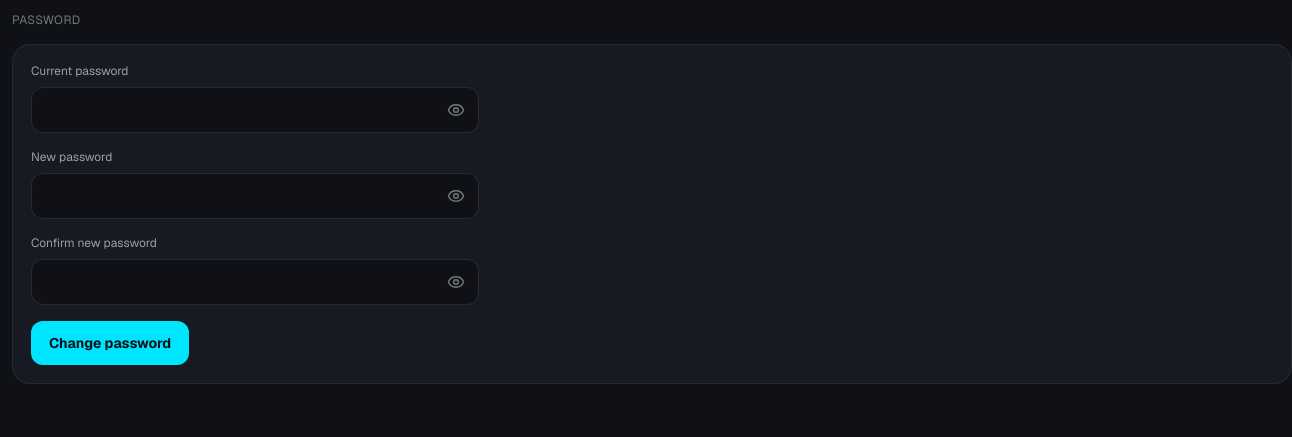
it: PasswordSection › shows a specific message when the current password is wrong (400)
Type "OldPassw0rd" into the password field labelled "Current password".
click(255, 110); type("OldPassw0rd")  # box [31,87,479,133]
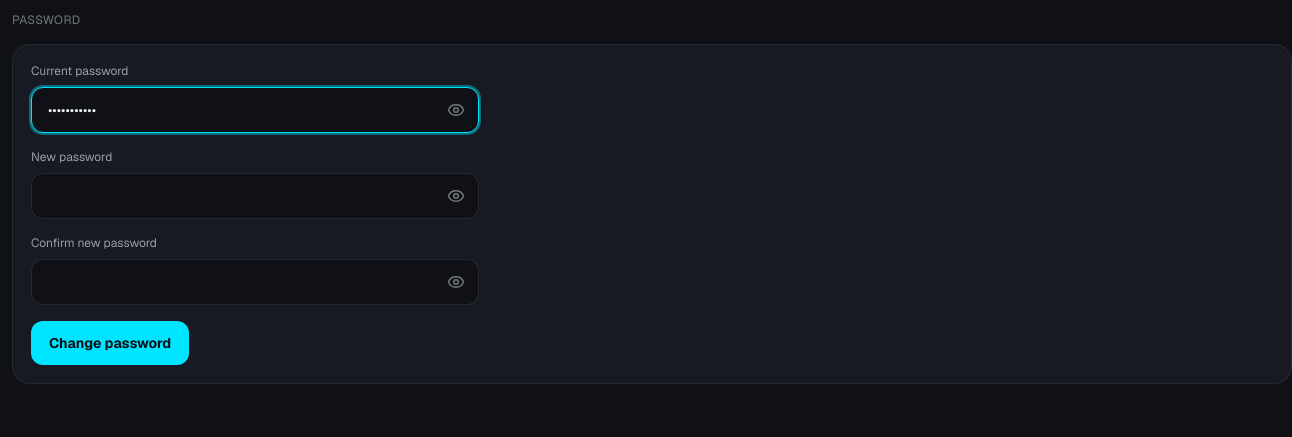
Type "NewPassw0rd" into the password field labelled "New password".
click(255, 196); type("NewPassw0rd")  # box [31,173,479,219]
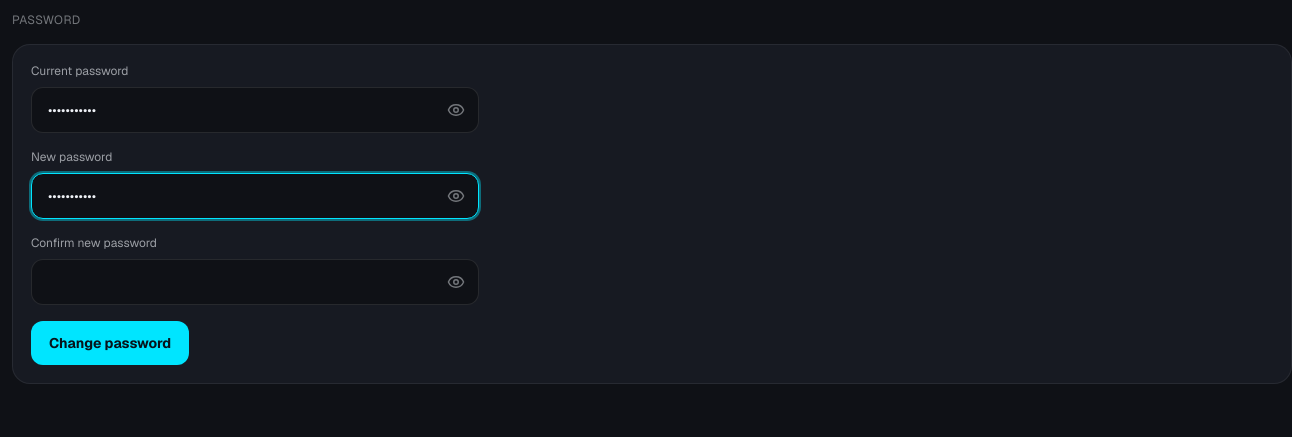
Type "NewPassw0rd" into the password field labelled "Confirm new password".
click(255, 282); type("NewPassw0rd")  # box [31,259,479,305]
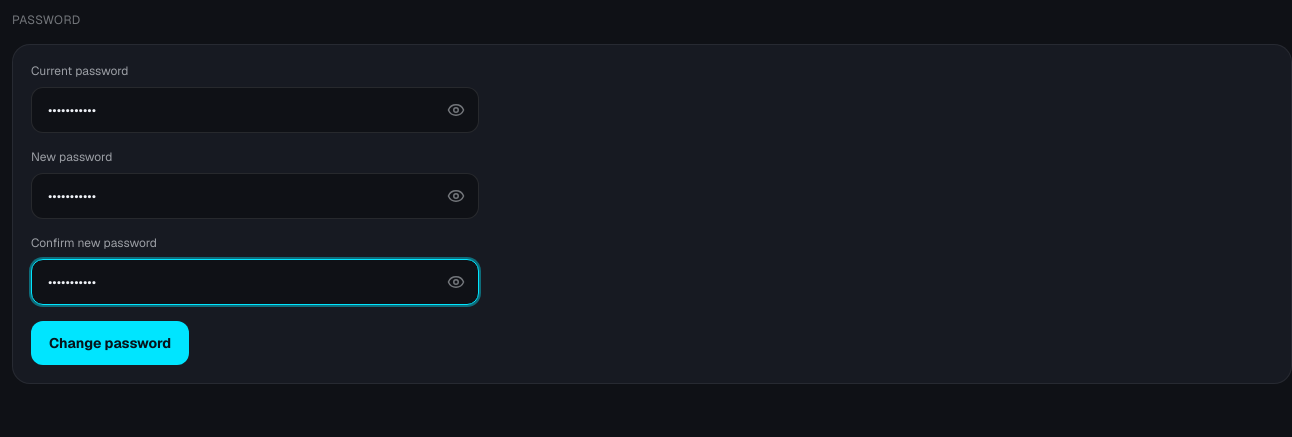
Click the button "Change password".
click(110, 343)  # box [31,321,189,365]
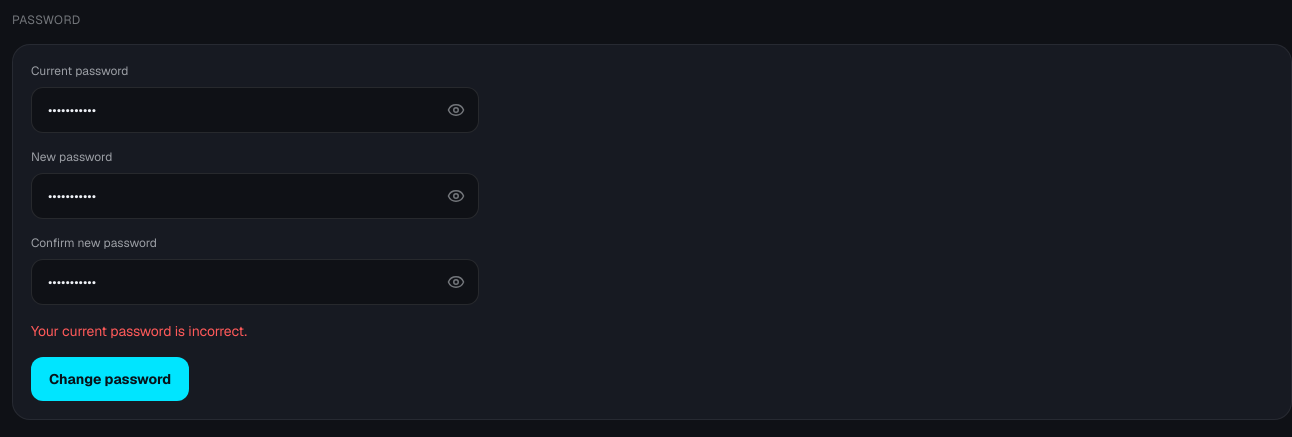
Now the text "Your current password is incorrect." is shown, box [31,322,247,340]
